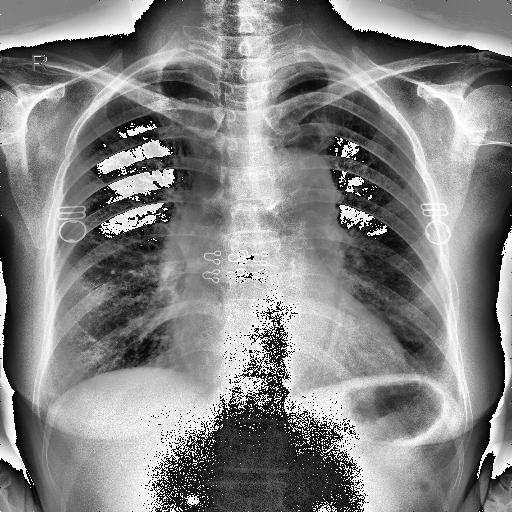0- Aortic enlargement: (254, 147, 344, 252), (254, 147, 342, 225), (266, 150, 338, 220)
3- Cardiomegaly: (166, 320, 408, 391), (170, 313, 408, 374), (174, 325, 414, 382)
